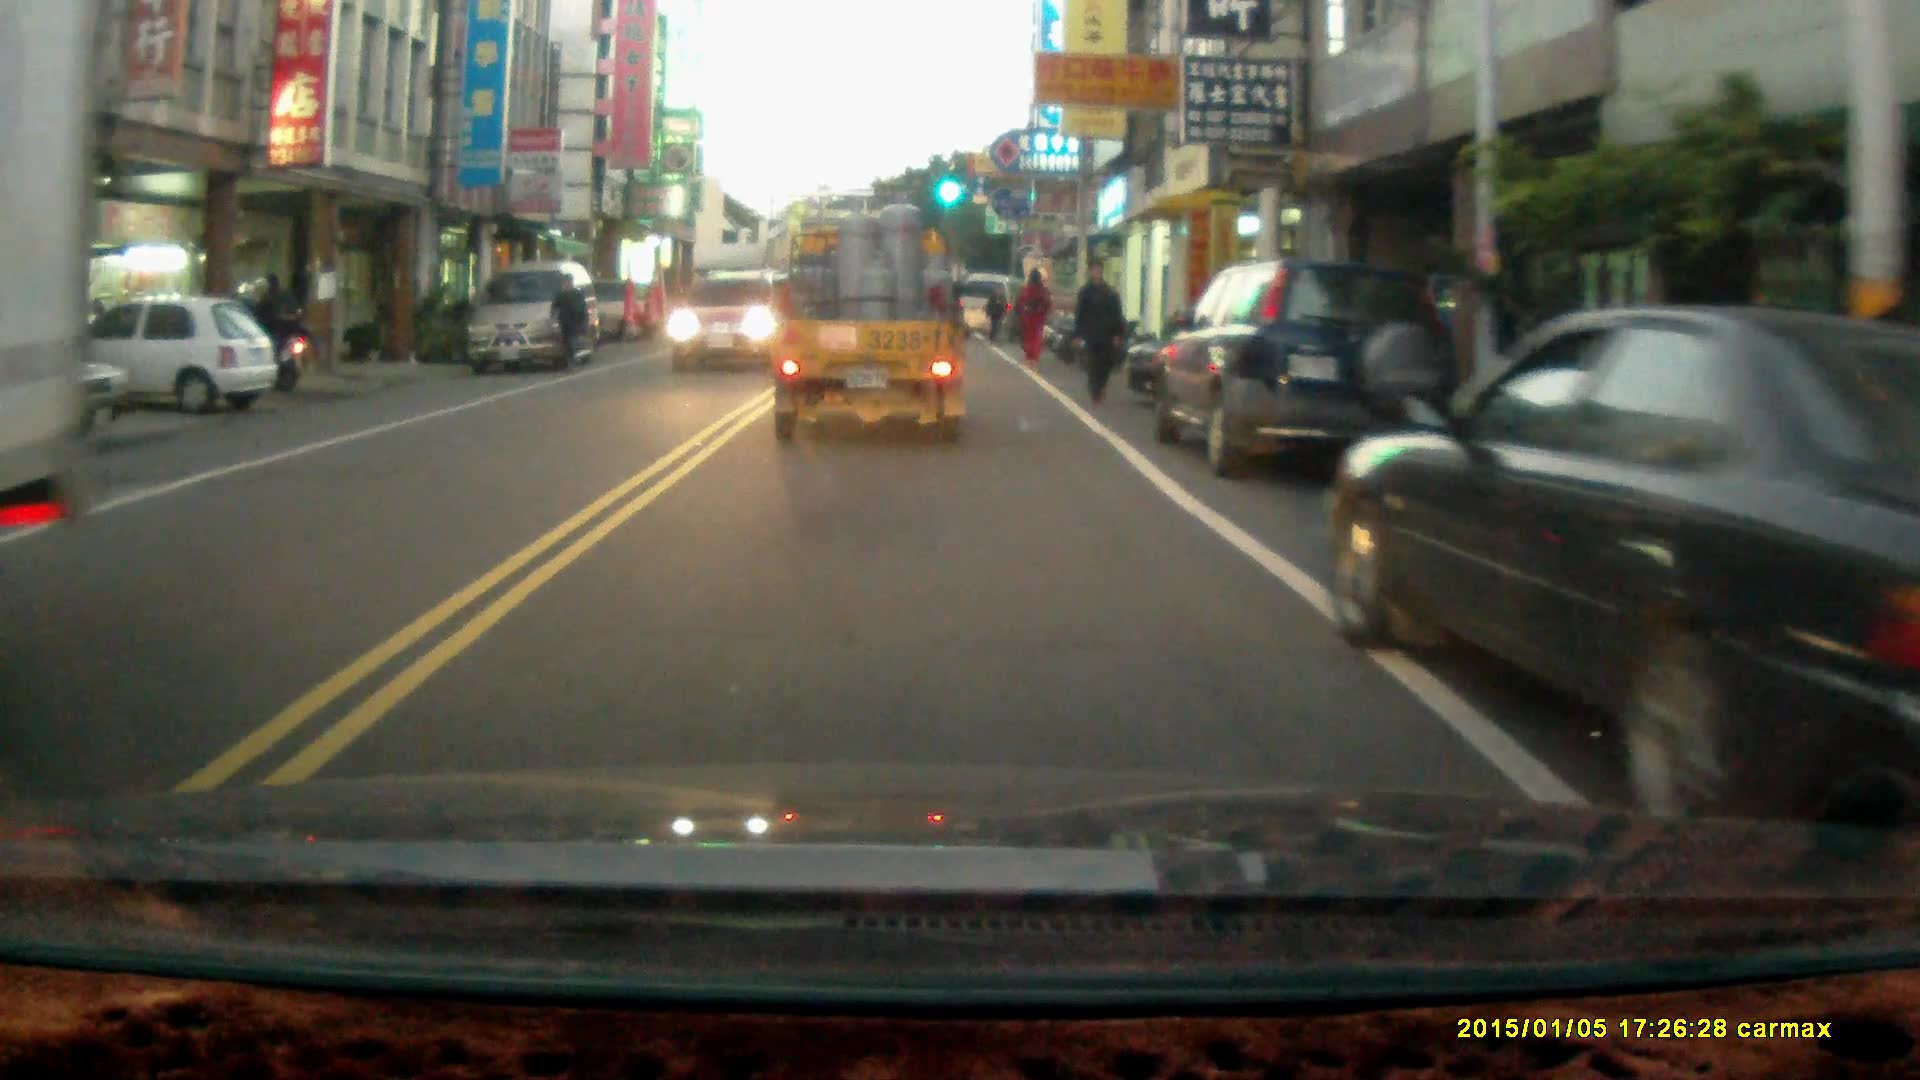pedestrian: (1070, 255, 1129, 410), (267, 267, 312, 392), (545, 272, 590, 373), (1012, 268, 1050, 370), (983, 286, 1009, 344)
rider: (219, 279, 305, 395)
vehicle: (1321, 308, 1920, 797), (1, 20, 136, 537), (1157, 259, 1455, 481), (772, 194, 970, 447), (27, 292, 266, 415), (466, 262, 599, 373), (665, 277, 782, 376)
